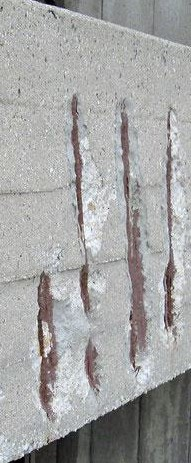Exposed reinforcement: (119, 111, 147, 371), (70, 92, 92, 314), (36, 270, 58, 419), (164, 109, 177, 332), (83, 336, 101, 396)
